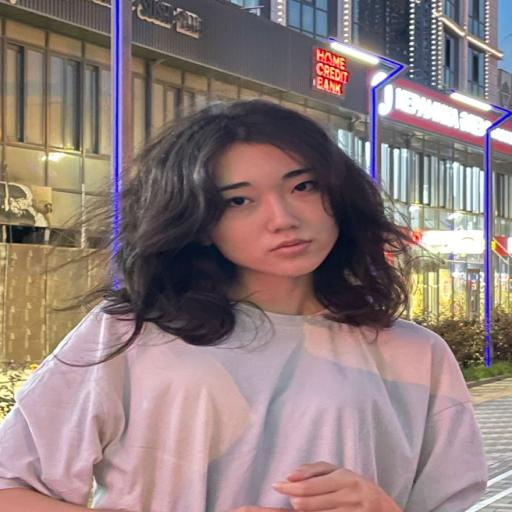laptop: (0, 100, 486, 511)
shelf: (469, 379, 511, 511)
